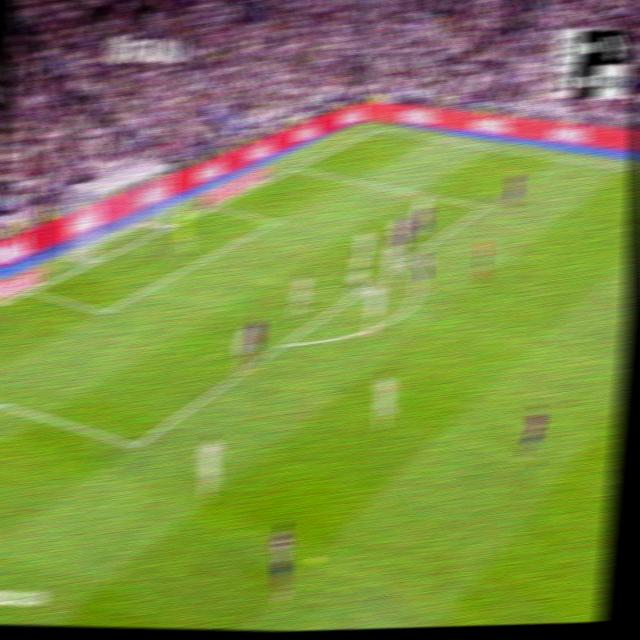bigarea_bottom_inner: (125, 429, 146, 461)
bigarea_top_inner: (478, 197, 493, 215)
bigarea_top_outter: (290, 161, 304, 173)
bottom_arc_area_intersection: (278, 333, 294, 351)
corner: (370, 120, 387, 133)
smallarea_bottom_inner: (96, 301, 114, 323)
smallarea_top_inner: (268, 215, 282, 228)
top_arc_area_intersection: (397, 252, 413, 269)
